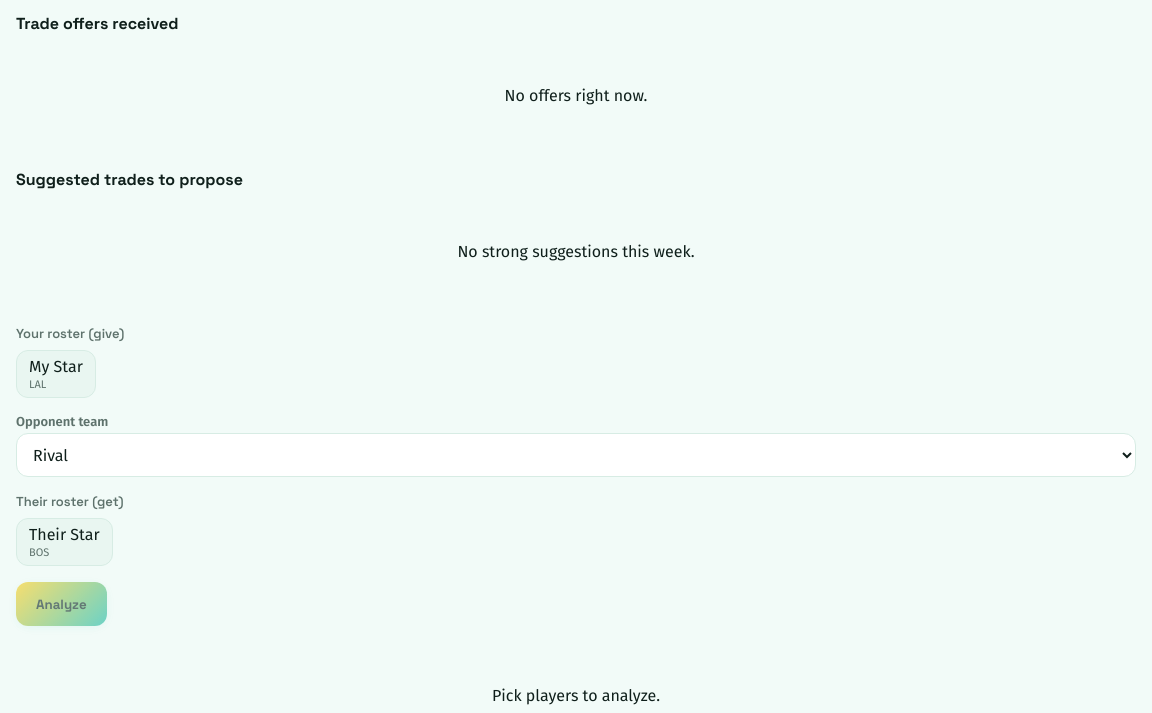
Scenario: TradeView › renders a points-league verdict as give/get/net fantasy points
Click the button "My Star LAL".
click(56, 374)  # box [16, 350, 96, 398]
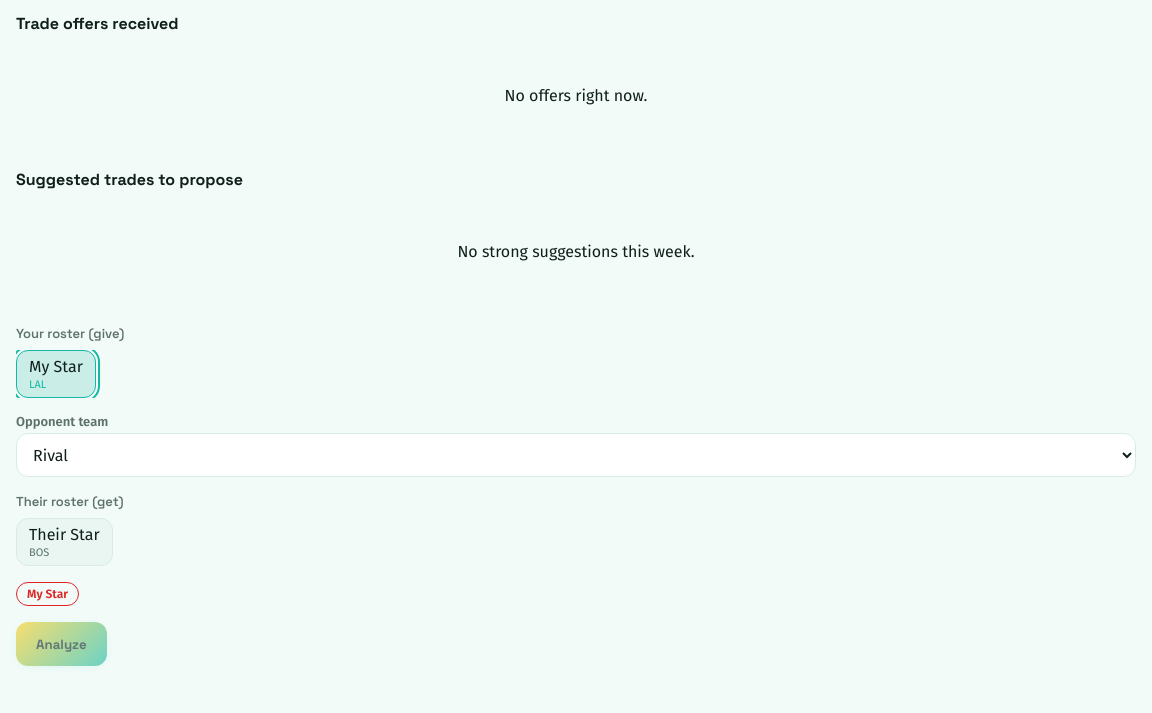
Select "Rival" in the dropdown labelled "Opponent team" at (576, 455), box [16, 433, 1136, 477]
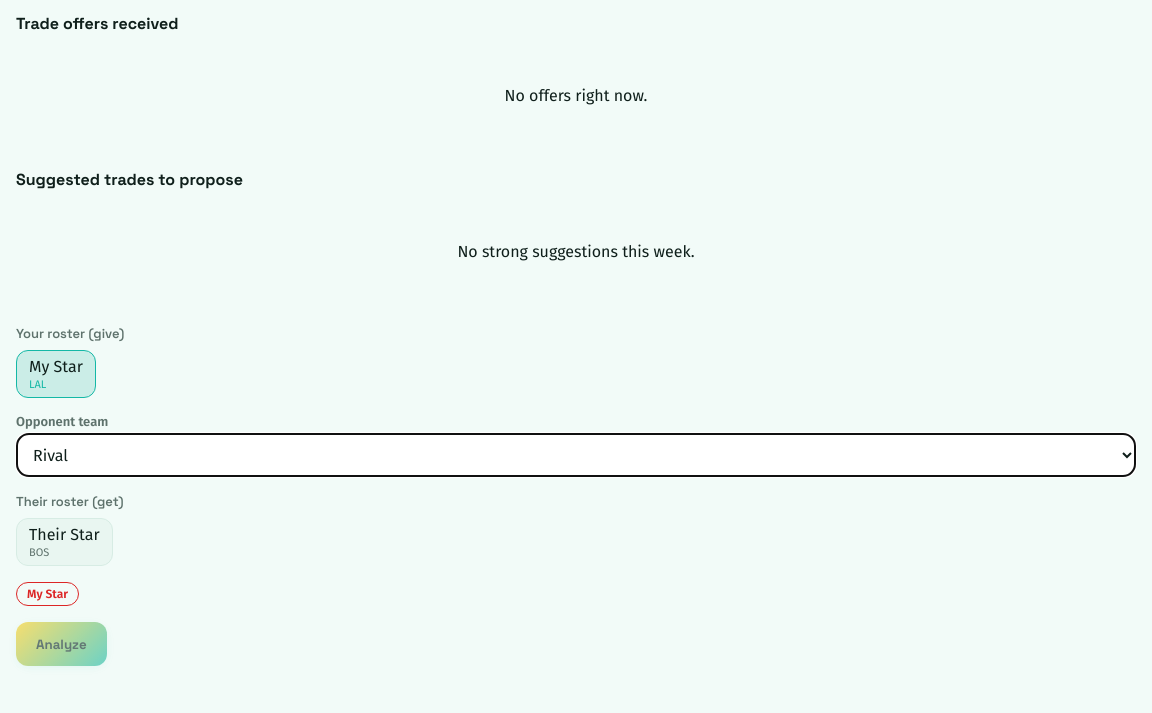
Click the button "Their Star BOS".
click(64, 542)  # box [16, 518, 113, 566]
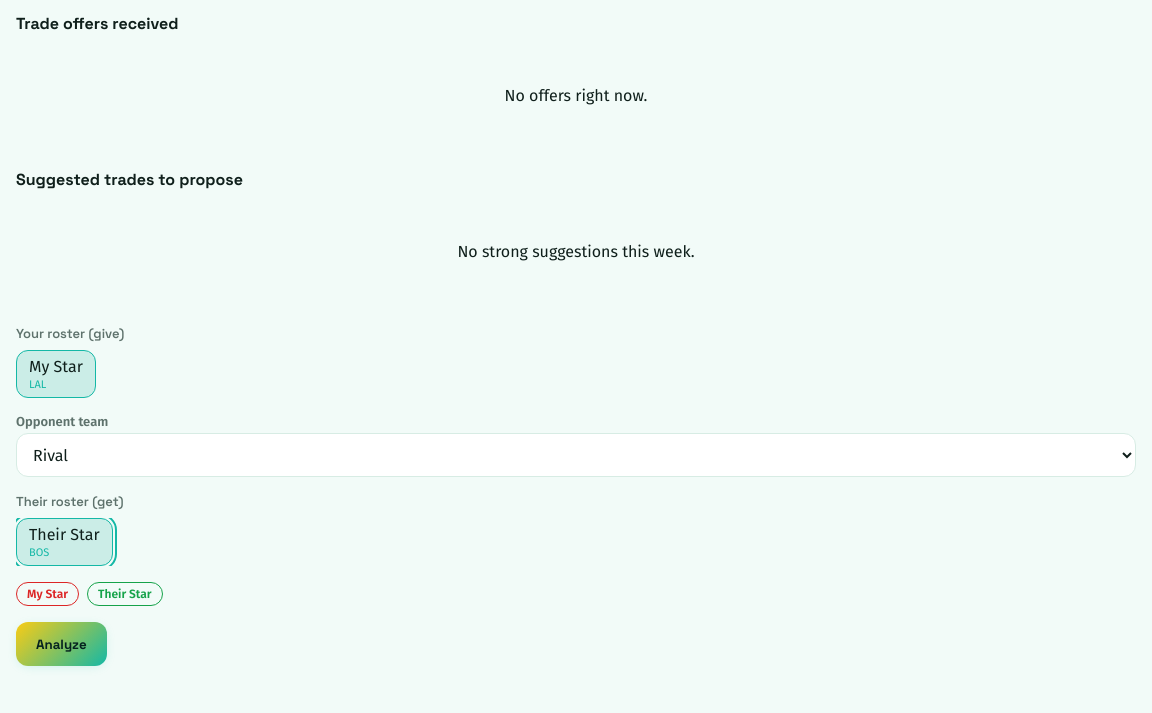
Click the button "Analyze".
click(61, 644)  # box [16, 622, 107, 666]
(page scrolled)
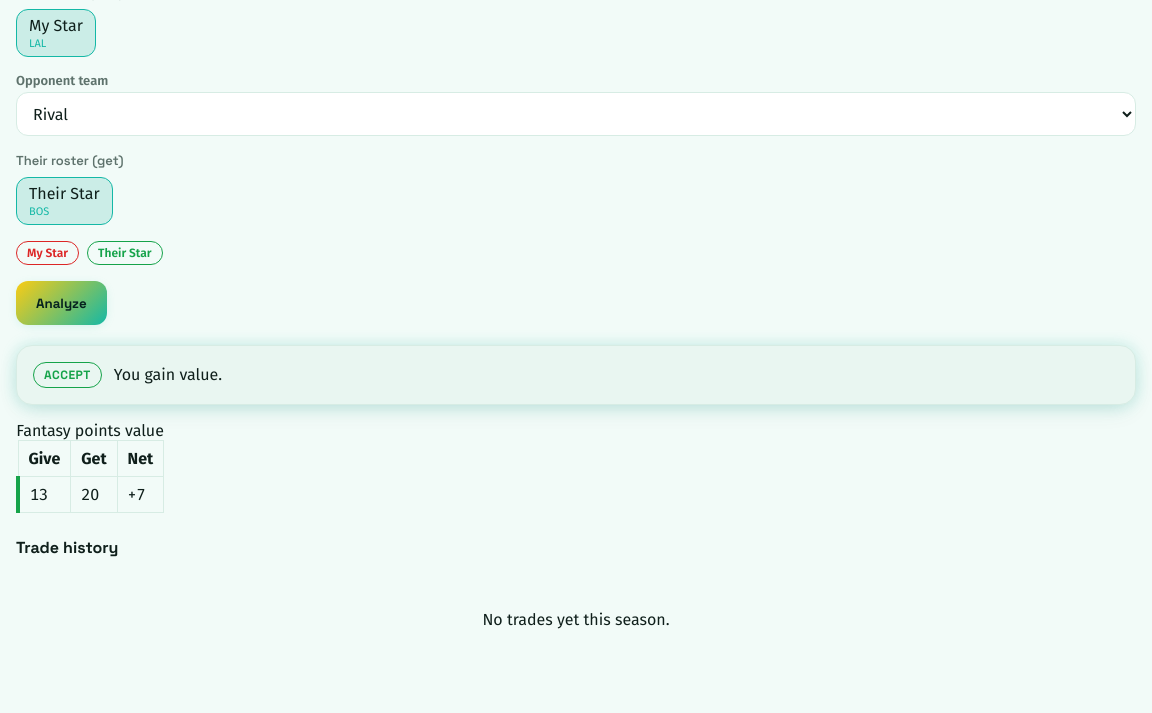
Expected: the text "ACCEPT" is shown, [33, 362, 102, 388]
Expected: the column heading "Net" is shown, [117, 440, 164, 476]
Expected: the text "13" is shown, [18, 476, 71, 512]
